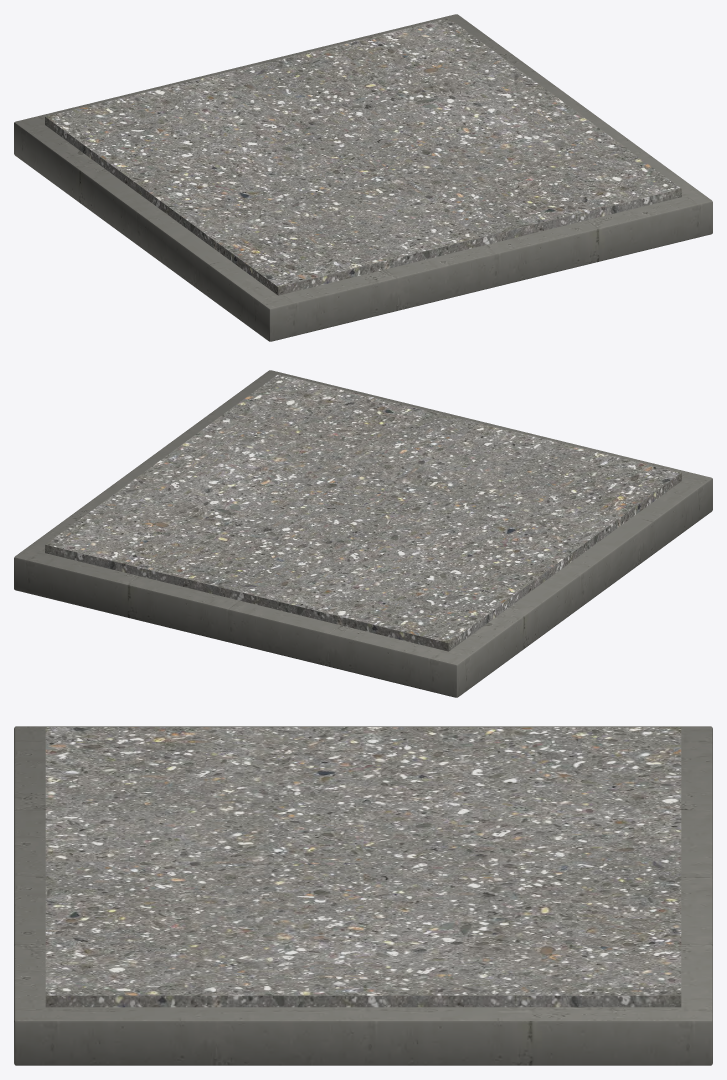
The model's file is PIS-CTP-002.glb.
The picture shows the model from 3 angles, top to bottom: view 1: azimuth 30°, elevation 25°; view 2: azimuth 150°, elevation 25°; view 3: azimuth 270°, elevation 25°; orthographic projection. The views are drawn at different scales.
Parts seen in each view (by area): view 1: PIS-CTP-002_regularizacao, PIS-CTP-002_laje; view 2: PIS-CTP-002_regularizacao, PIS-CTP-002_laje; view 3: PIS-CTP-002_regularizacao, PIS-CTP-002_laje.
Part boxes in pixels (<box>): PIS-CTP-002_regularizacao: <box>45,18,681,295</box>; PIS-CTP-002_laje: <box>14,14,712,341</box>; PIS-CTP-002_regularizacao: <box>45,374,681,651</box>; PIS-CTP-002_laje: <box>14,370,712,697</box>; PIS-CTP-002_regularizacao: <box>45,727,681,1007</box>; PIS-CTP-002_laje: <box>14,726,712,1065</box>.
Size of the model in its own units: 1.1 by 0.1011 by 1.1.
2 materials, 2 textured.
